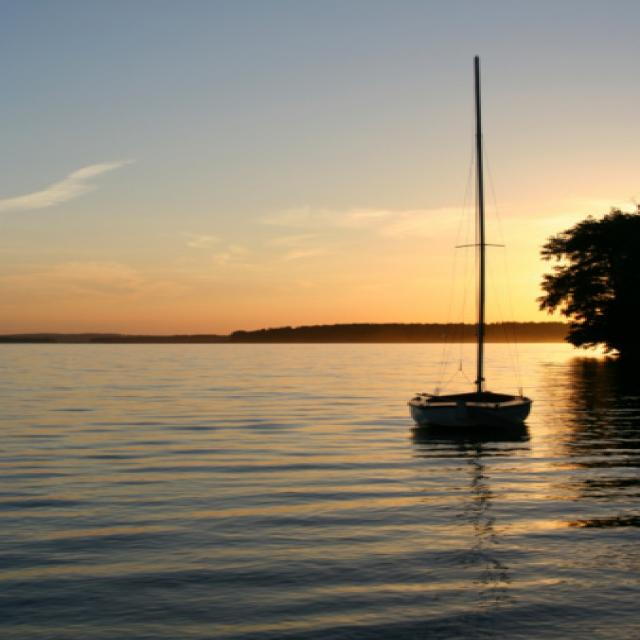Boat: (406, 52, 548, 444)
